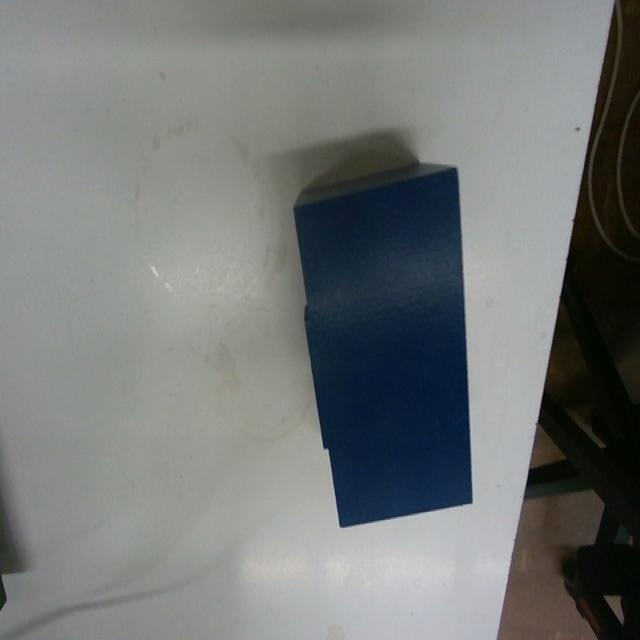Blue Cuboid: (290, 158, 475, 530)
